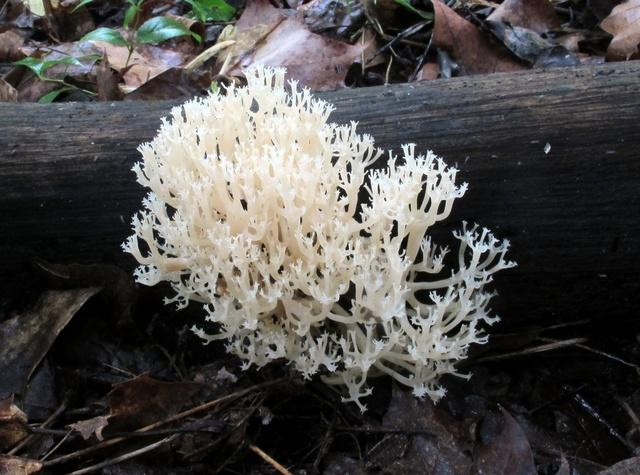Edible Mushroom: (120, 60, 517, 412)
